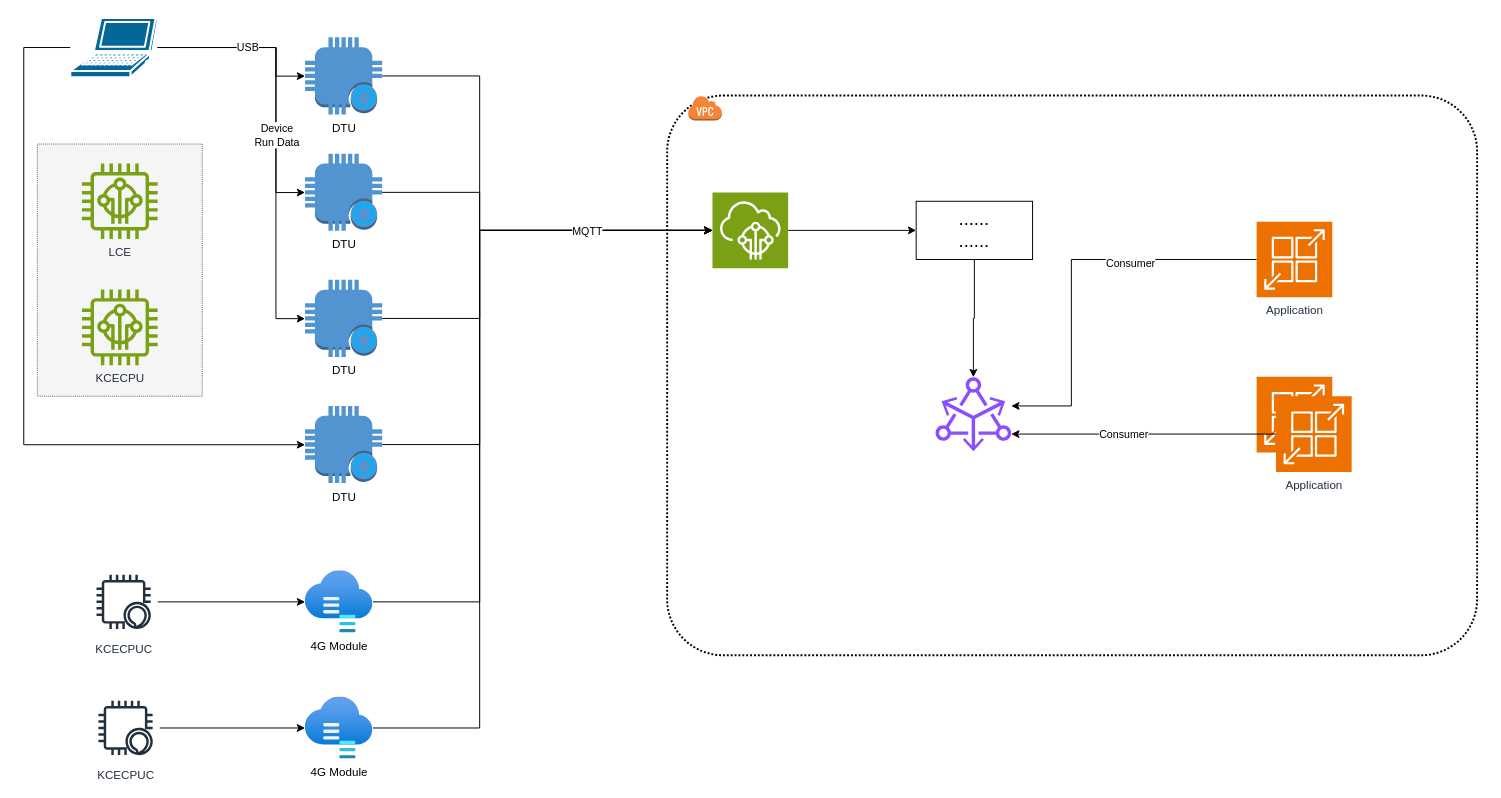
The diagram is 1501 pixels wide and 798 high, and some of its shapes have lost their labels. Each missing label, with the centre of its shape:
IOT Core: the point at 749,230
MSK: the point at 973,413
通过PC 模拟: the point at 113,47
